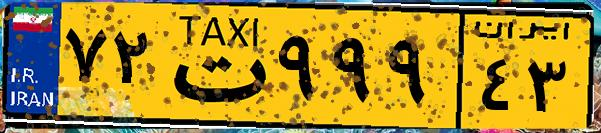2: (110, 28, 158, 98)
3: (525, 38, 570, 115)
4: (475, 38, 525, 113)
7: (57, 26, 110, 100)
9: (270, 28, 330, 110), (385, 28, 445, 110), (330, 28, 385, 110)
ت: (158, 12, 270, 120)
